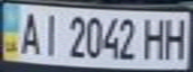0: (84, 12, 106, 60)
2: (63, 11, 87, 60), (118, 15, 142, 61)
4: (103, 13, 124, 60)
A: (15, 8, 45, 55)
H: (139, 15, 172, 61), (163, 14, 190, 61)
I: (36, 9, 63, 56)
